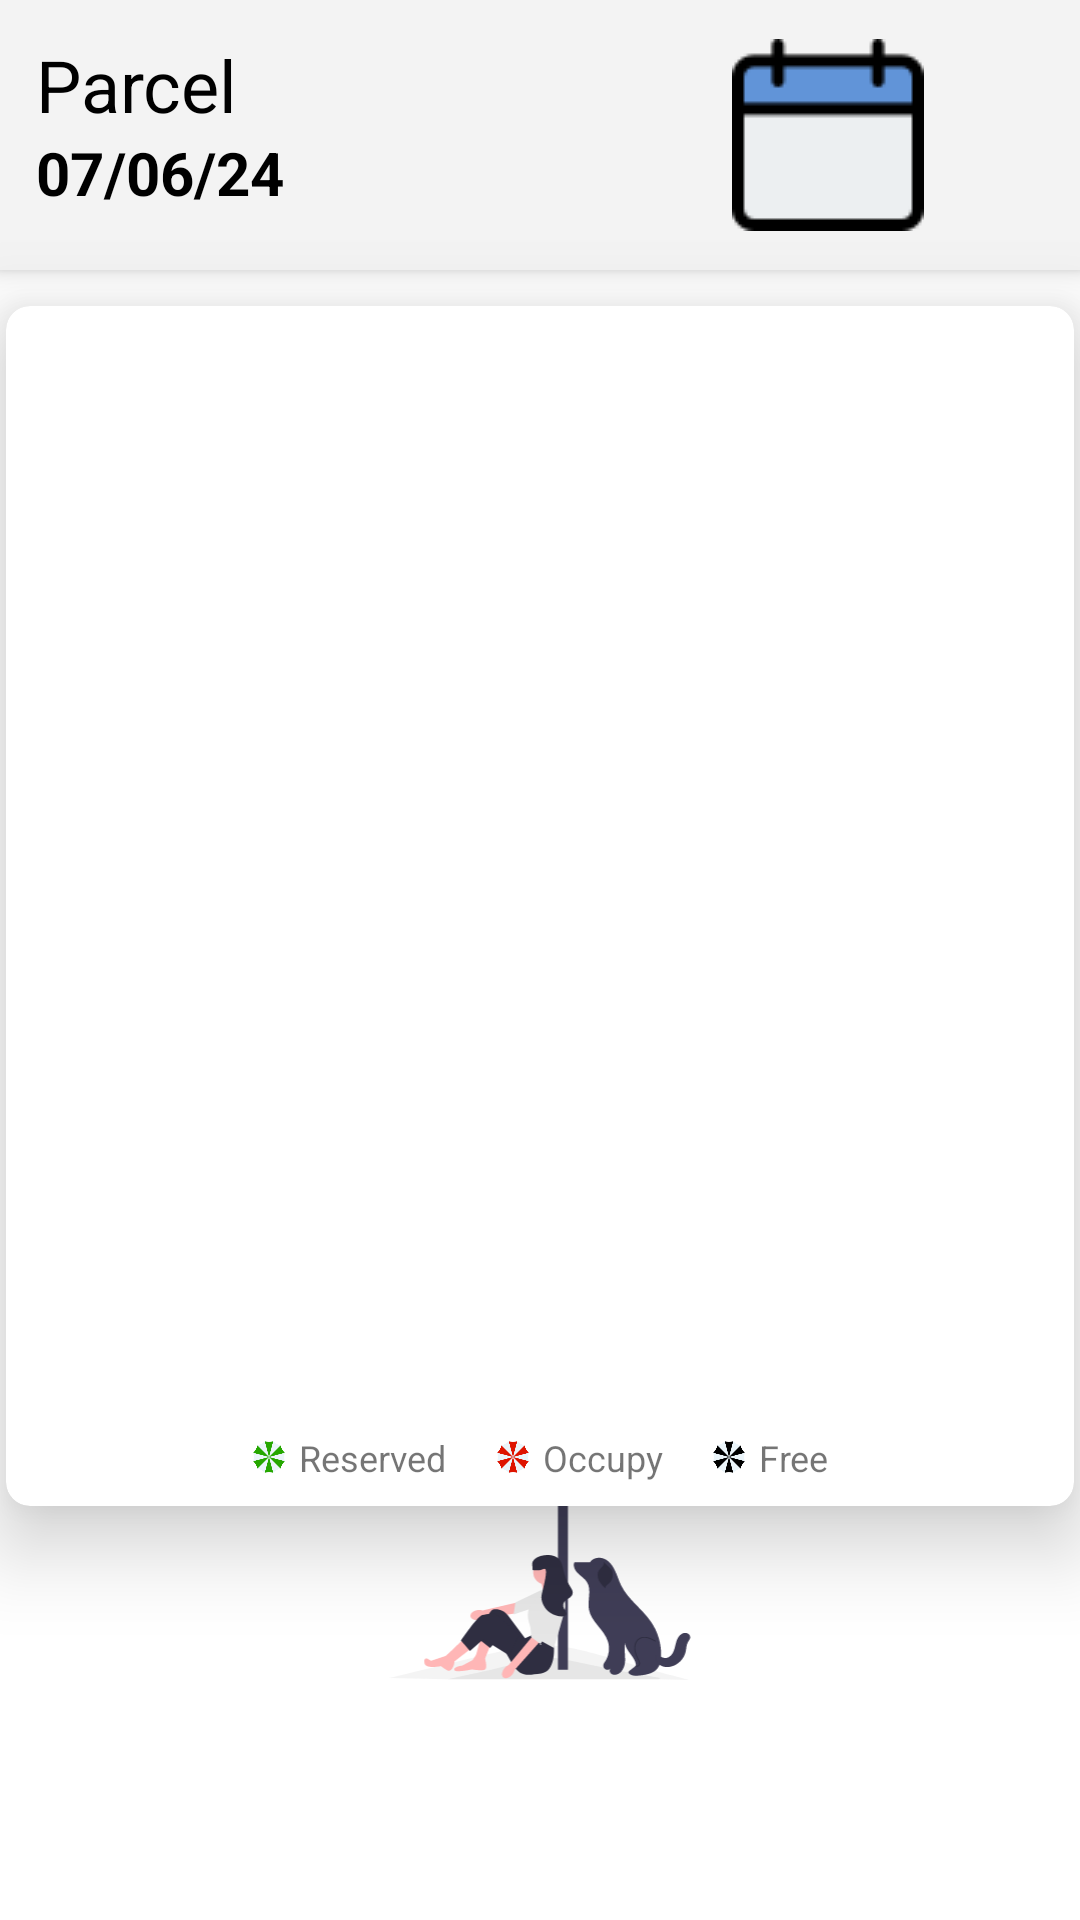

Icons on this 1080px x 1920px Android screen, each with its box as (x1, y1, x2, y2):
Calendar icon: (732, 39, 924, 231)
